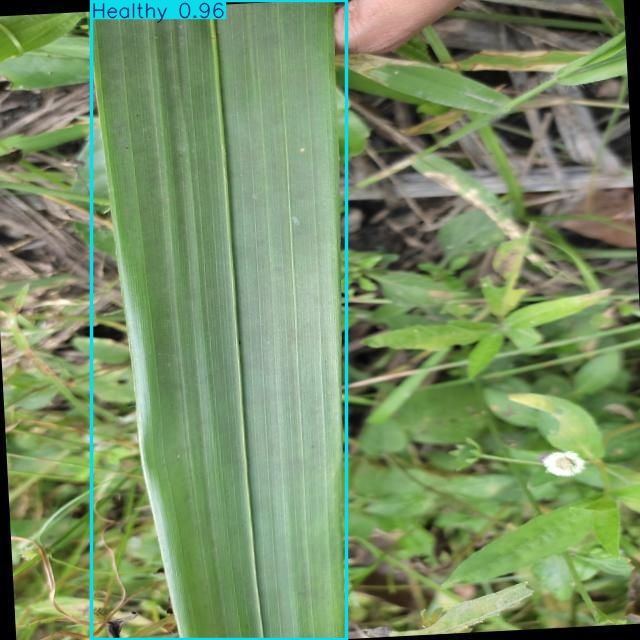Healthy: (91, 1, 346, 640)
